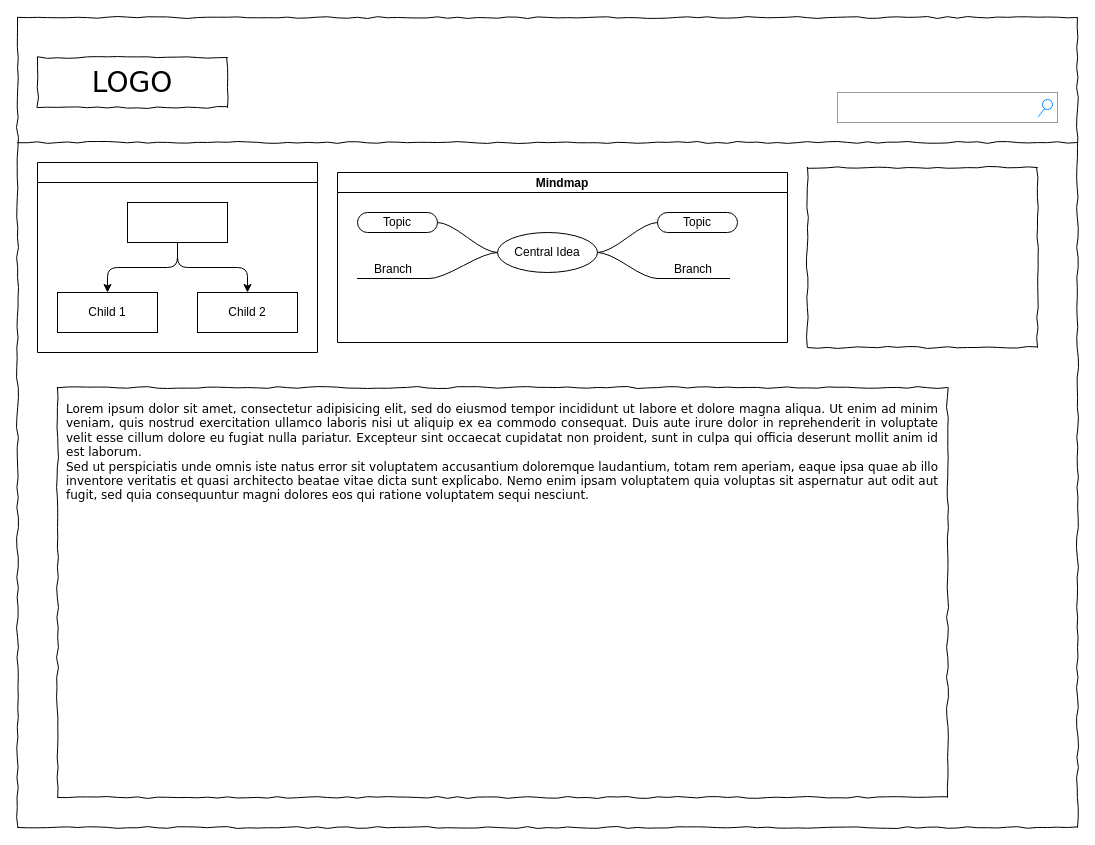
Some shapes in this 1095 by 845 pixel diagram are drawn without their labels. The box of each missing label's shape, as (x1, y1, x2, y2) in pixels:
External Links: (806, 166, 1038, 348)
Root: (126, 202, 228, 242)
Search: (836, 92, 1058, 122)
Vertical Tree Layout: (36, 162, 318, 352)
